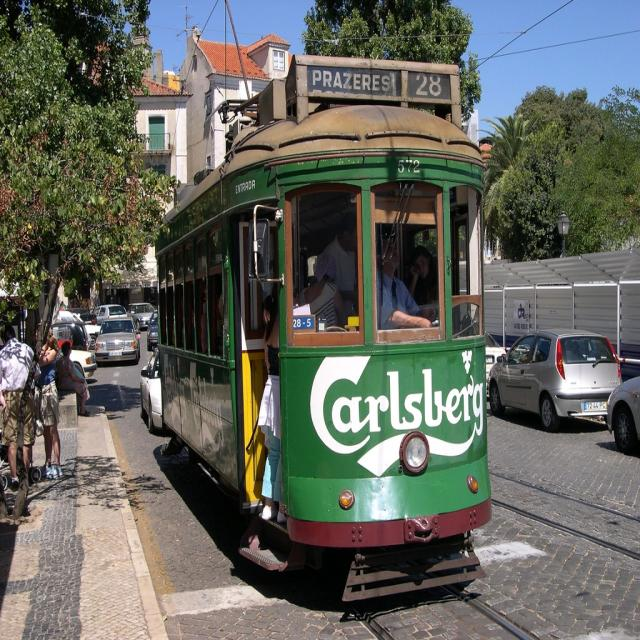carlsberg: (308, 347, 488, 492)
